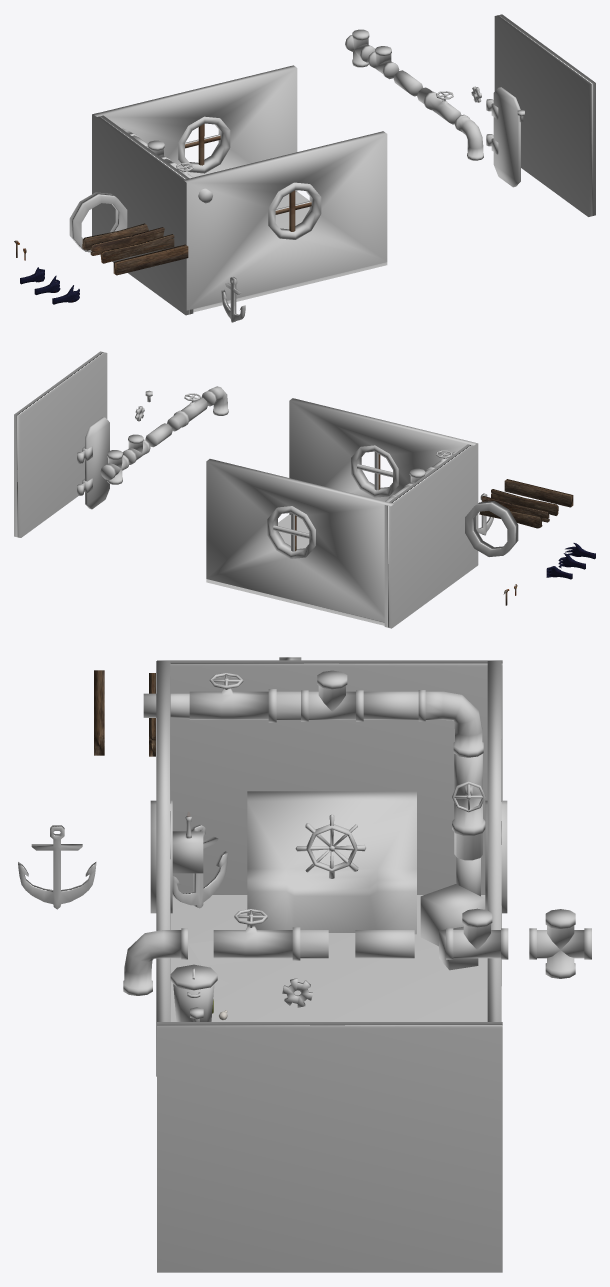
The model's file is 驾驶室_20260706.fbx.
3 renders of one model, top to bottom at view 1: azimuth 30°, elevation 25°; view 2: azimuth 150°, elevation 25°; view 3: azimuth 270°, elevation 25°, orthographic. The views are drawn at different scales.
Parts seen in each view (by area): view 1: pCube1.005, 立方体.090, pCube1.001, 立方体.083, door:pCube3, 立方体.094, 立方体.001, 立方体.084, 柱体.035, 立方体.205, 立方体.208, polySurface1.001 (+7 smaller); view 2: pCube1.001, 立方体.083, 立方体.090, pCube1.005, door:pCube3, 立方体.001, 柱体.035, 立方体.094, 立方体.084, 立方体.205, group2_pasted__group1_pasted__pasted__pCylinder2_pasted_6b61, 立方体.208 (+6 smaller); view 3: 立方体.090, 立方体.083, pCube3.001, 立方体.084, pCube1.005, pCube1.001, polySurface3.001, polySurface3.006, group2_pasted__group1_pasted__pasted__pCylinder2_pasted_6b61, polySurface3.007, polySurface1.004, polySurface1.001 (+16 smaller).
Boxes of the visible parts, box(x1,y1,x2,y2) form: pCube1.005: box(183, 131, 387, 310); 立方体.090: box(494, 14, 595, 216); pCube1.001: box(93, 65, 297, 192); 立方体.083: box(92, 112, 193, 315); door:pCube3: box(486, 87, 520, 187); 立方体.094: box(268, 182, 321, 239); 立方体.001: box(178, 116, 230, 173); 立方体.084: box(193, 192, 387, 312); 柱体.035: box(69, 192, 127, 252); 立方体.205: box(113, 244, 188, 275); 立方体.208: box(100, 234, 174, 263); polySurface1.001: box(454, 114, 483, 160); pCube1.001: box(206, 459, 393, 622); 立方体.083: box(384, 443, 478, 628); 立方体.090: box(14, 351, 107, 537); pCube1.005: box(289, 398, 476, 514); door:pCube3: box(77, 417, 109, 509); 立方体.001: box(267, 506, 315, 558); 柱体.035: box(465, 501, 518, 556); 立方体.094: box(351, 445, 398, 497); 立方体.084: box(206, 514, 384, 625); 立方体.205: box(504, 479, 573, 507); group2_pasted__group1_pasted__pasted__pCylinder2_pasted_6b61: box(100, 450, 129, 484); 立方体.208: box(491, 489, 558, 515); 立方体.090: box(157, 1022, 502, 1272); 立方体.083: box(157, 660, 502, 894); pCube3.001: box(247, 791, 416, 934); 立方体.084: box(170, 895, 487, 1021); pCube1.005: box(156, 661, 170, 1076); pCube1.001: box(487, 661, 501, 1021); polySurface3.001: box(213, 926, 328, 960); polySurface3.006: box(189, 688, 300, 722); group2_pasted__group1_pasted__pasted__pCylinder2_pasted_6b61: box(529, 909, 591, 978); polySurface3.007: box(452, 754, 485, 860); polySurface1.004: box(418, 690, 483, 757); polySurface1.001: box(123, 928, 187, 995).
Size of the model in its own units: 12603 by 2950 by 6255.
